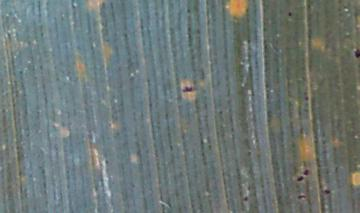tarspot: (182, 85, 194, 93), (322, 187, 331, 195), (354, 48, 360, 58), (297, 175, 304, 183), (297, 194, 306, 200), (304, 94, 310, 103), (303, 169, 310, 176), (242, 195, 249, 201), (287, 11, 292, 17)
